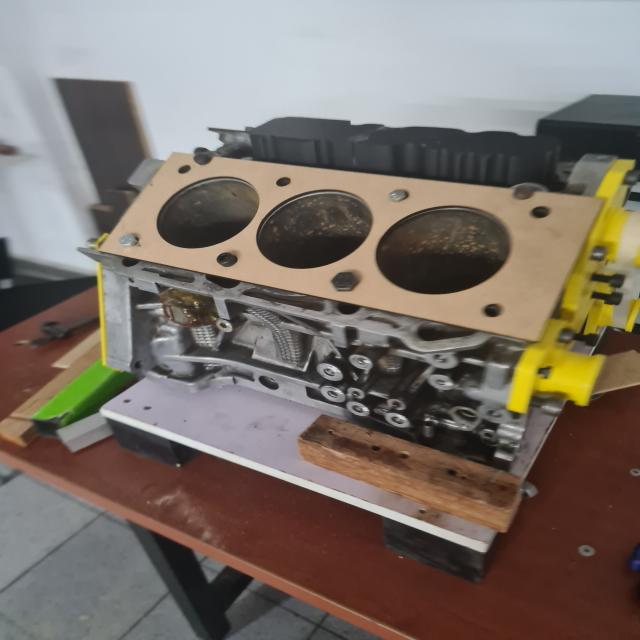vista1: (98, 151, 606, 342)
